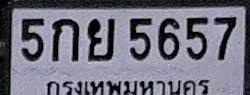5: (21, 18, 44, 61), (186, 16, 208, 60), (130, 17, 152, 60)
6: (158, 16, 179, 60)
7: (214, 16, 236, 60)
A01: (52, 18, 79, 61)
A34: (87, 18, 115, 61)
BKK: (44, 74, 215, 95)
